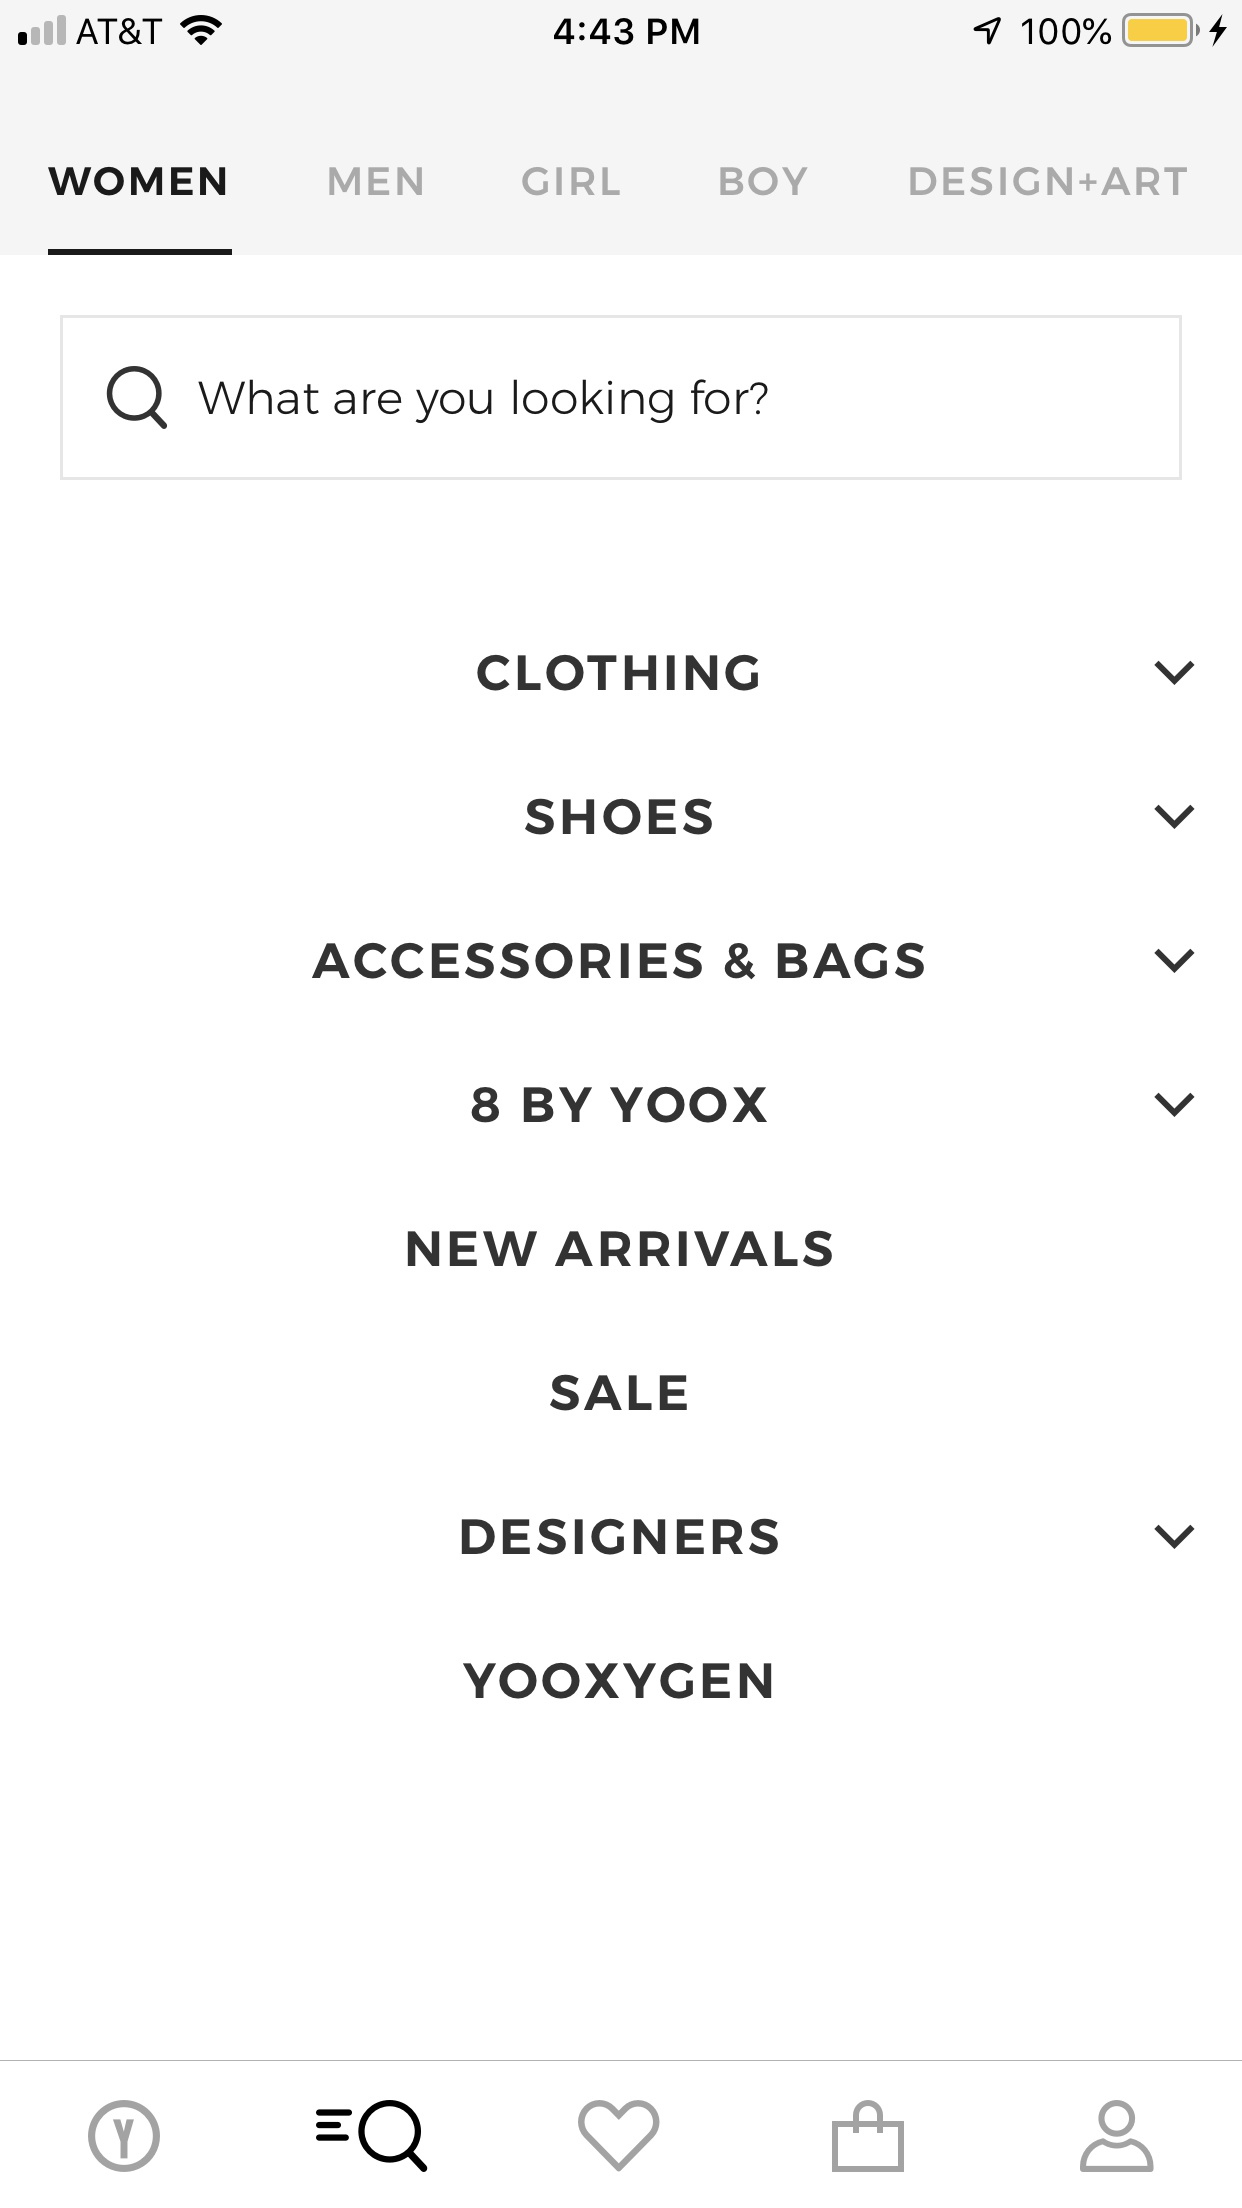EditText: (61, 315, 1183, 481)
Icon: (315, 2099, 429, 2173), (578, 2099, 661, 2172), (833, 2099, 905, 2173), (1080, 2100, 1154, 2173), (108, 365, 168, 431), (1154, 1092, 1197, 1118), (1154, 1524, 1195, 1550), (1154, 948, 1195, 974), (1154, 661, 1195, 687), (1153, 805, 1195, 830)
Image: (88, 2099, 162, 2173)
Text: (199, 379, 769, 425), (312, 942, 925, 980), (406, 1231, 833, 1268), (461, 1518, 779, 1556), (464, 1662, 773, 1700), (472, 1087, 767, 1124), (478, 654, 760, 692), (910, 165, 1187, 197), (525, 799, 713, 836), (49, 165, 227, 197), (550, 1374, 688, 1412), (522, 167, 622, 197), (329, 167, 425, 197), (720, 167, 808, 197)
UpperTaskBar: (2, 2, 1242, 49)
